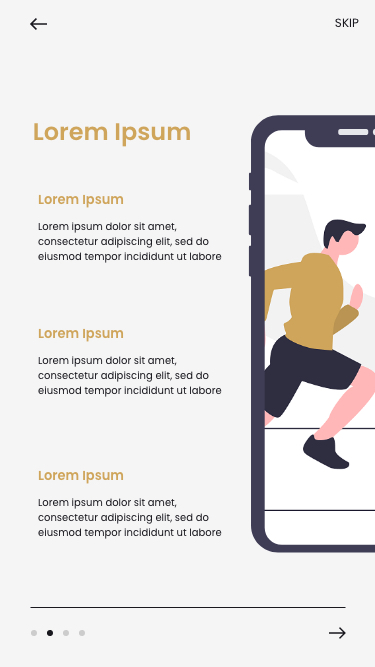Icon: (329, 626, 347, 639), (31, 18, 48, 31)
Image: (249, 115, 375, 553)
PageIndicator: (31, 629, 87, 637)
Text: (38, 222, 222, 264), (38, 356, 222, 398), (38, 498, 222, 539), (34, 123, 191, 148), (39, 328, 125, 343), (39, 195, 124, 209), (39, 470, 124, 484), (335, 18, 359, 29)
